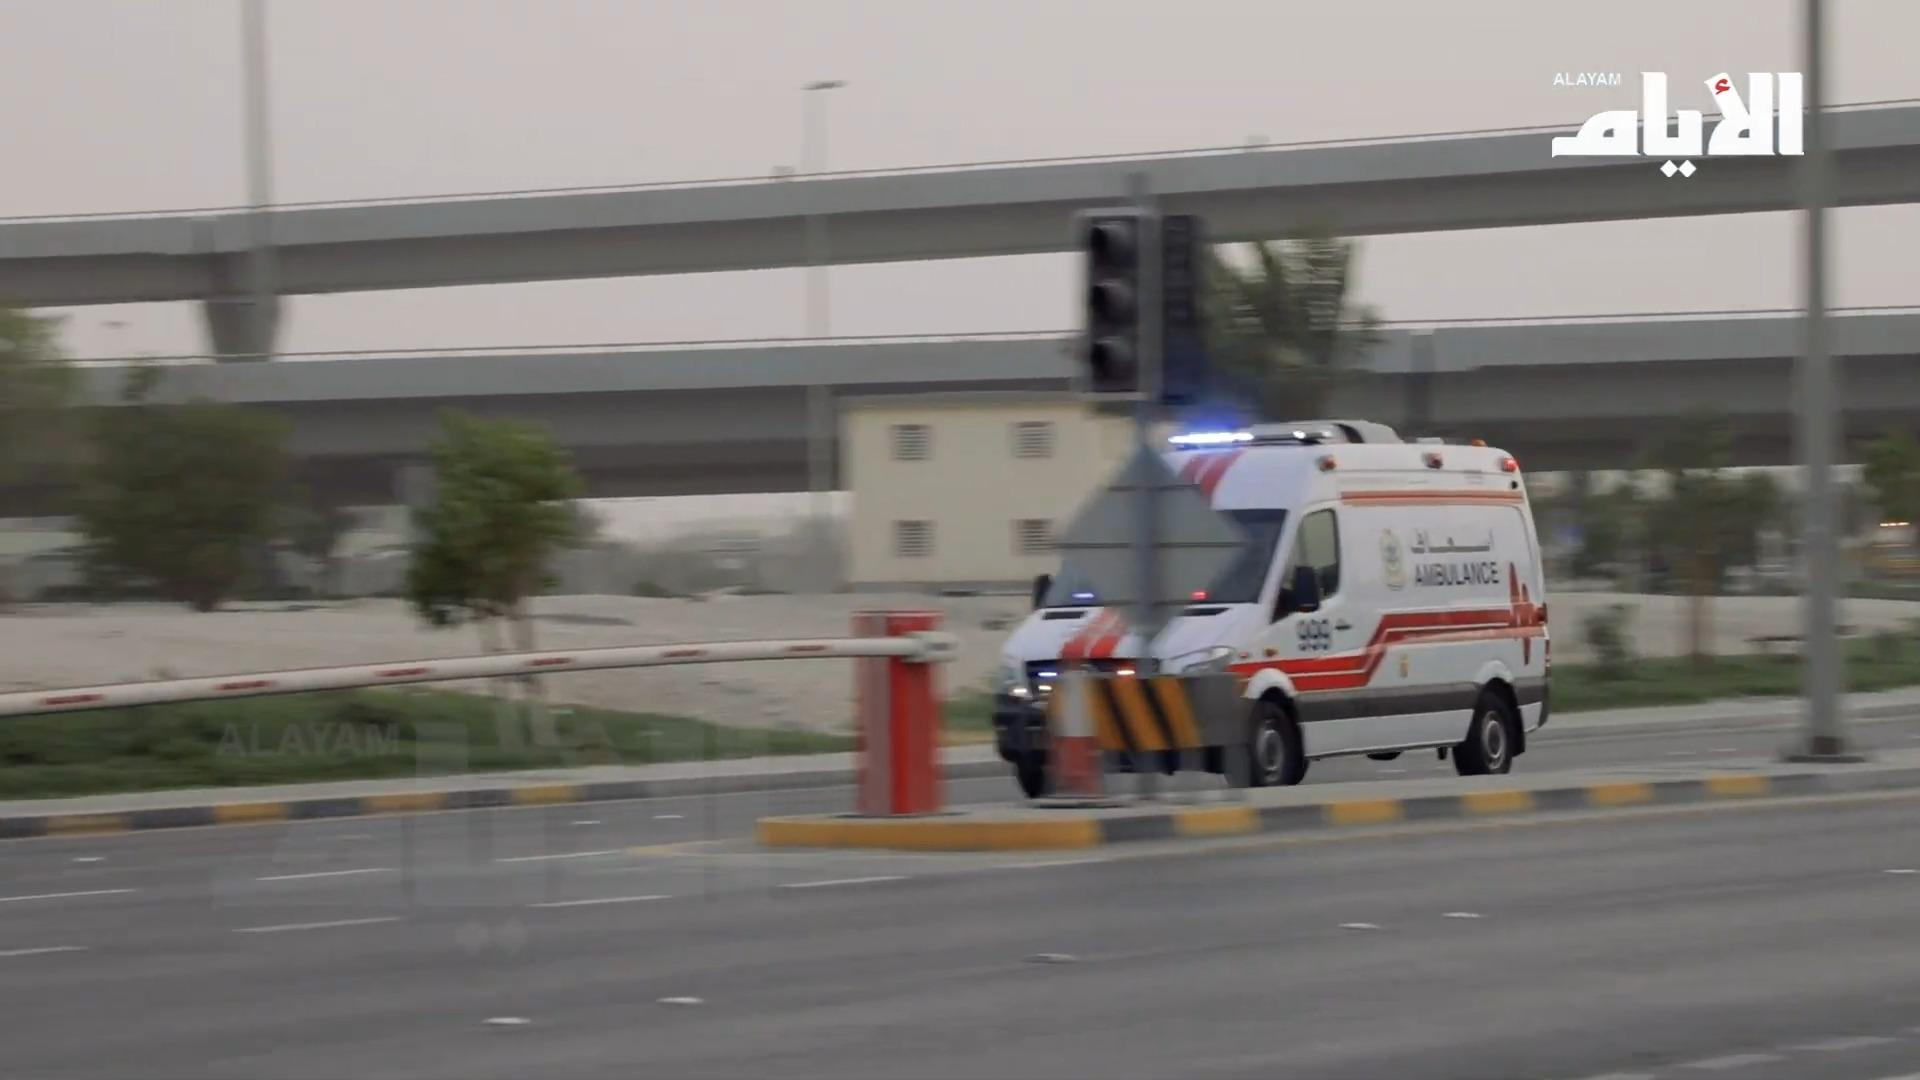ambulance_on: (992, 426, 1549, 799)
